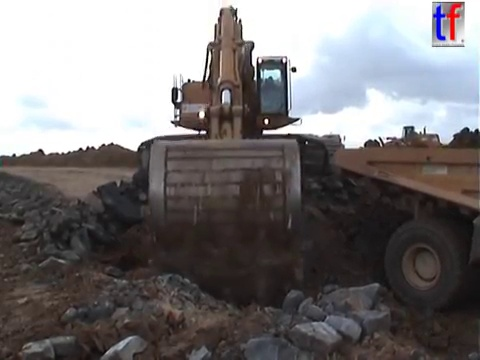excavator: (129, 5, 347, 282)
truck: (330, 143, 480, 314)
wheel loader: (361, 124, 445, 159)
